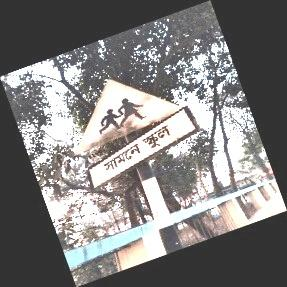School-in-front: (78, 79, 205, 190)
